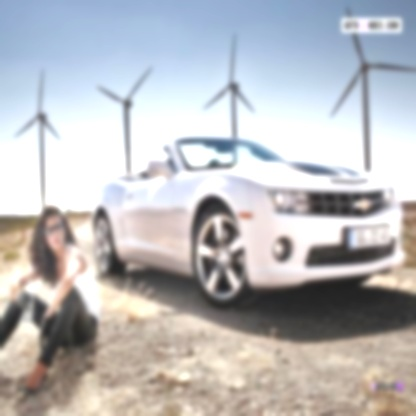Vehicle: (88, 135, 408, 315)
